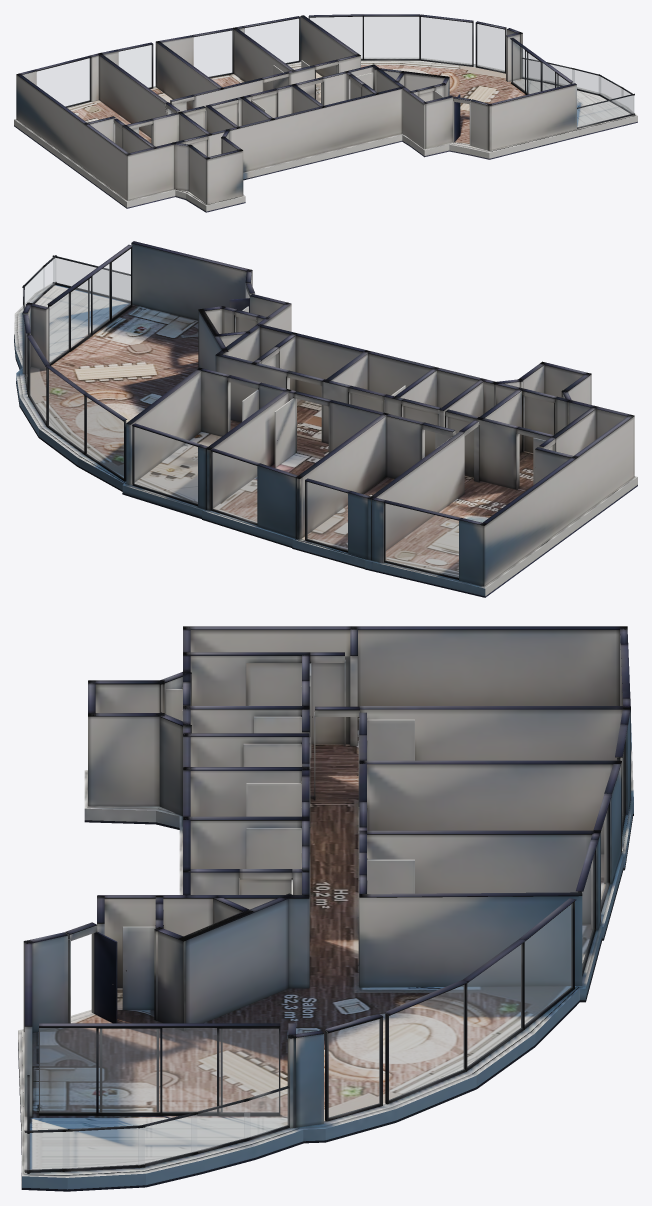
3 renders of one model, top to bottom at view 1: azimuth 30°, elevation 25°; view 2: azimuth 150°, elevation 25°; view 3: azimuth 270°, elevation 25°, orthographic. The views are drawn at different scales.
Parts seen in each view (by area): view 1: plan, glass5_m, glass6_m, glass0_m, glass2_m, glass3_m, glass8_m, glass7_m, glass4_m, railg5_m, glass1_m, railg2_m (+2 smaller); view 2: plan, glass8_m, glass0_m, glass3_m, glass2_m, glass1_m, glass4_m, glass5_m, railg5_m, glass6_m; view 3: plan, glass8_m, glass6_m, glass5_m, glass7_m, glass4_m, railg3_m, railg2_m, railg1_m, railg4_m, railg0_m, glass3_m.
Part boxes in pixels (x1,y1,x2,y2): plan: (14, 14, 637, 212); glass5_m: (364, 17, 418, 58); glass6_m: (421, 17, 471, 64); glass0_m: (37, 58, 89, 106); glass2_m: (194, 31, 232, 76); glass3_m: (244, 19, 298, 62); glass8_m: (511, 40, 569, 93); glass7_m: (477, 24, 504, 71); glass4_m: (310, 17, 362, 58); railg5_m: (577, 96, 634, 126); glass1_m: (119, 45, 151, 87); railg2_m: (572, 69, 600, 94); plan: (14, 241, 637, 597); glass8_m: (49, 249, 130, 363); glass0_m: (385, 503, 458, 577); glass3_m: (134, 427, 197, 503); glass2_m: (212, 452, 256, 522); glass1_m: (307, 482, 347, 550); glass4_m: (86, 397, 123, 478); glass5_m: (48, 369, 83, 451); railg5_m: (53, 258, 130, 300); glass6_m: (29, 341, 45, 421); plan: (18, 626, 633, 1191); glass8_m: (39, 1028, 278, 1112); glass6_m: (389, 985, 464, 1100); glass5_m: (467, 944, 521, 1066); glass7_m: (329, 1019, 379, 1117); glass4_m: (525, 903, 572, 1025); railg3_m: (63, 1128, 144, 1168); railg2_m: (138, 1115, 196, 1165); railg1_m: (191, 1101, 249, 1152); railg4_m: (25, 1132, 69, 1169); railg0_m: (244, 1089, 288, 1138); glass3_m: (582, 855, 594, 967).
Bounding box in the file's own units: 24.81 × 2.62 × 13.98.
2 materials, 1 textured.
